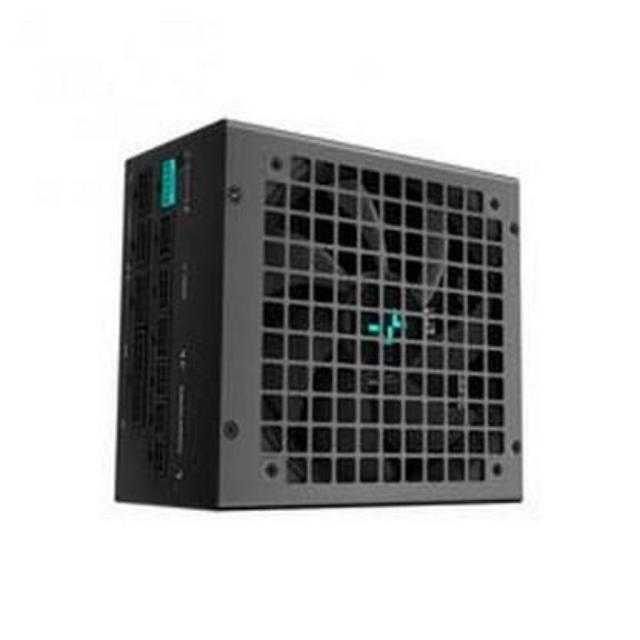PSU: (106, 113, 531, 519)
